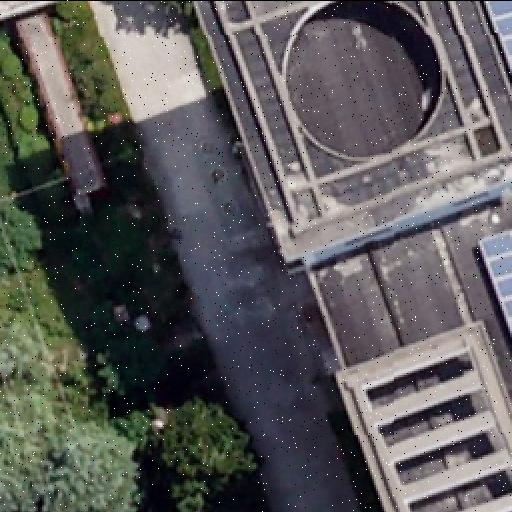solar-panel: (480, 229, 512, 331), (484, 0, 512, 76)
